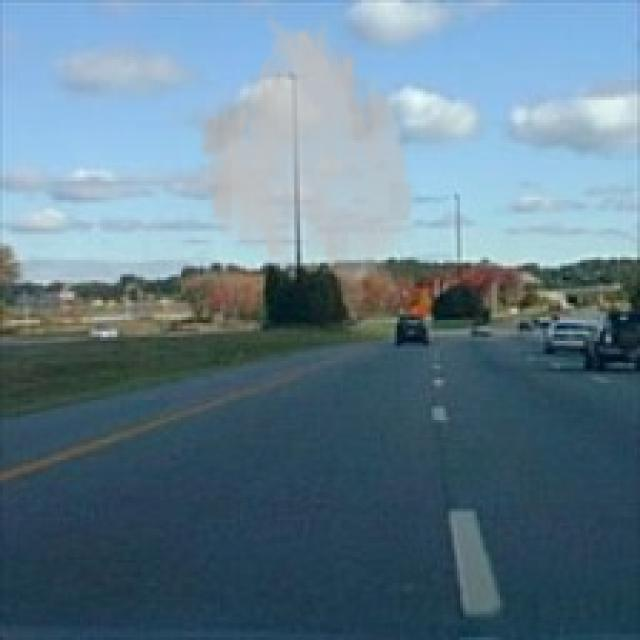Smoke: (194, 8, 417, 288)
